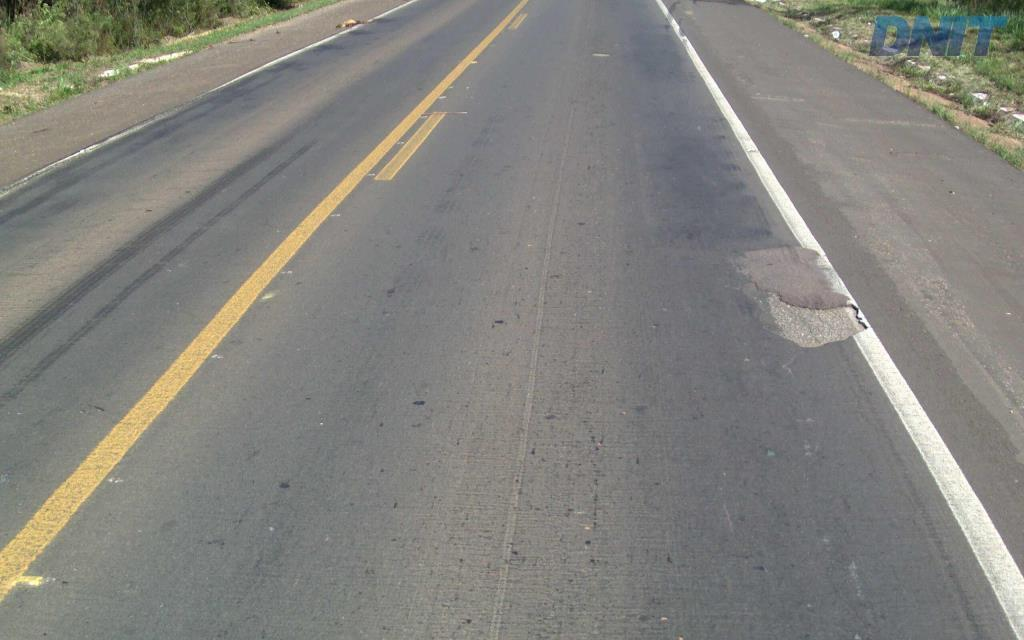pothole: (757, 283, 868, 351)
